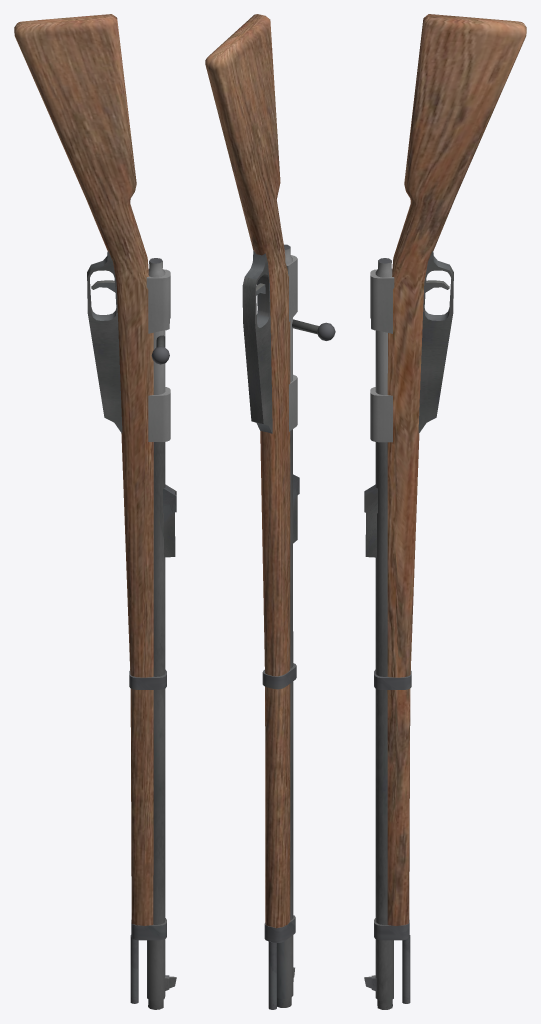
The model's file is gun.obj.
The picture shows the model from 3 angles, left to right: view 1: azimuth 90°, elevation 25°; view 2: azimuth 150°, elevation 25°; view 3: azimuth 270°, elevation 25°; orthographic projection.
Visible parts, largest first — view 1: Cube, Cylinder, Cube.007, Cube.006, Cube.001, Cube.004, Cylinder.001; view 2: Cube, Cube.007, Cylinder, Cube.001, Cube.006, Cylinder.001, Icosphere, Cube.004; view 3: Cube, Cylinder, Cube.007, Cube.006, Cube.001, Cube.004, Cylinder.001.
Boxes of the visible parts, x1,y1,x2,y2 form: Cube: [14, 14, 153, 925]; Cylinder: [147, 258, 165, 1009]; Cube.007: [87, 251, 122, 432]; Cube.006: [146, 269, 170, 441]; Cube.001: [129, 669, 166, 940]; Cube.004: [163, 484, 176, 557]; Cylinder.001: [130, 935, 138, 1003]; Cube: [205, 14, 290, 928]; Cube.007: [242, 250, 272, 433]; Cylinder: [277, 244, 293, 1007]; Cube.001: [262, 663, 296, 942]; Cube.006: [286, 255, 297, 431]; Cylinder.001: [268, 941, 276, 1009]; Icosphere: [292, 319, 335, 340]; Cube.004: [293, 474, 299, 543]; Cube: [387, 14, 526, 925]; Cylinder: [375, 258, 393, 1009]; Cube.007: [418, 251, 453, 433]; Cube.006: [370, 269, 394, 442]; Cube.001: [374, 669, 411, 940]; Cube.004: [364, 484, 377, 557]; Cylinder.001: [402, 935, 410, 1003].
Size of the model in its own units: 0.2659 by 4.39 by 0.6524.
Materials: 5 (5 with a texture image).
